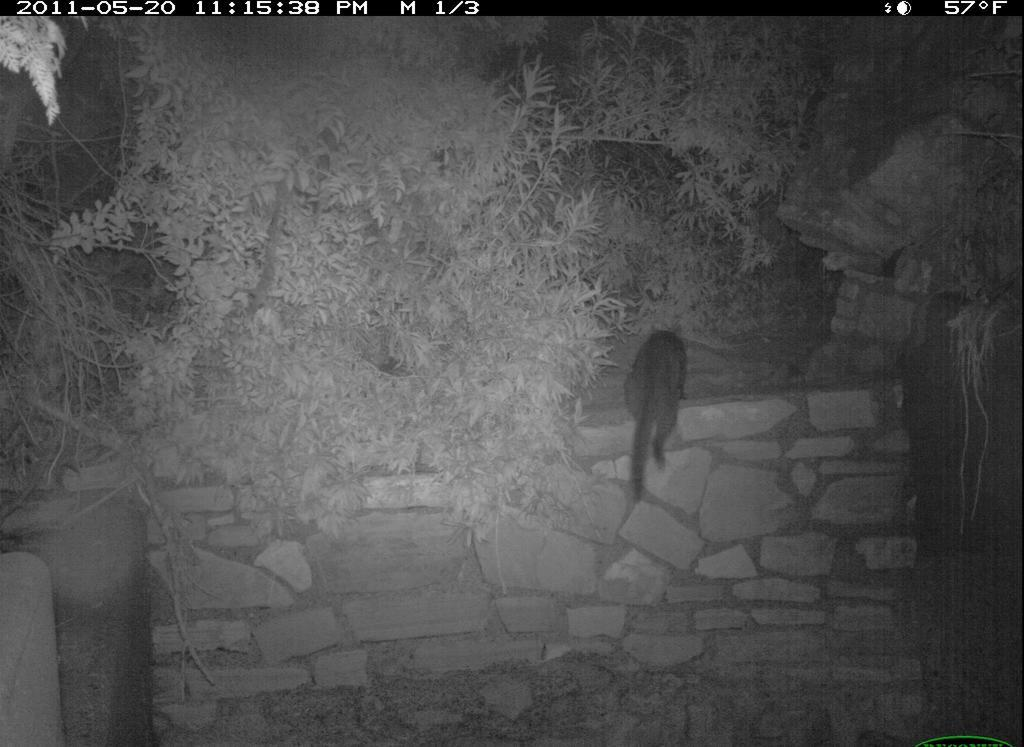cat: (614, 317, 705, 515)
